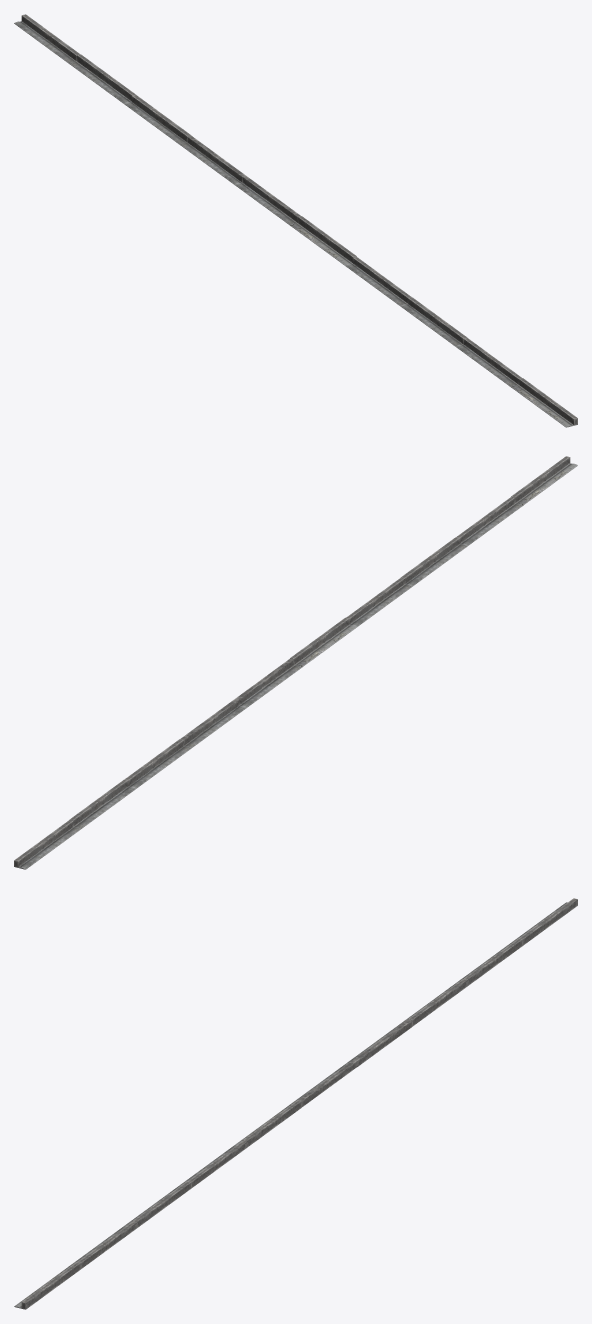
File: HH_Curbstone_A_20m_02.fbx
3 renders of one model, top to bottom at view 1: azimuth 30°, elevation 25°; view 2: azimuth 150°, elevation 25°; view 3: azimuth 330°, elevation 25°, orthographic.
Visible parts, largest first — view 1: HH_Curbstone_A_20m_02_LOD0; view 2: HH_Curbstone_A_20m_02_LOD0; view 3: HH_Curbstone_A_20m_02_LOD0.
Boxes of the visible parts, <box> form: HH_Curbstone_A_20m_02_LOD0: <box>14,14,577,427</box>; HH_Curbstone_A_20m_02_LOD0: <box>14,456,577,869</box>; HH_Curbstone_A_20m_02_LOD0: <box>14,898,577,1309</box>.
Size of what is drawn, in the model's own units: 24.73 by 13.74 by 2000.
